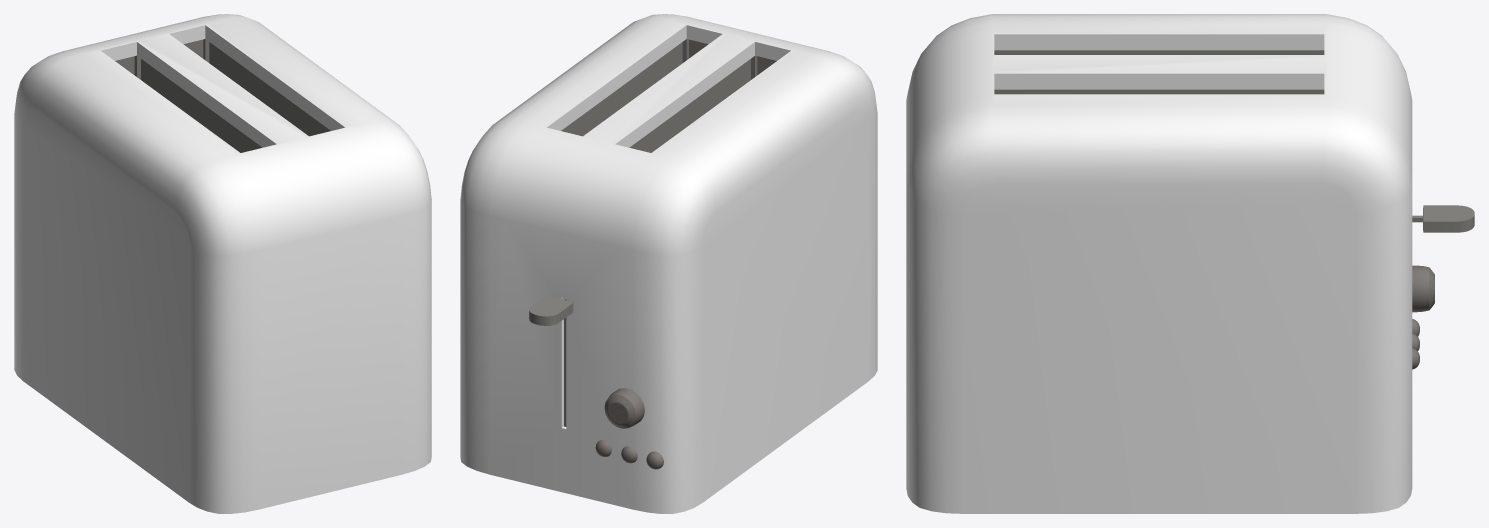
File: Microwave 1.FBX
The picture shows the model from 3 angles, left to right: view 1: azimuth 30°, elevation 25°; view 2: azimuth 150°, elevation 25°; view 3: azimuth 270°, elevation 25°; orthographic projection. The views are drawn at different scales.
Parts seen in each view (by area): view 1: Box001; view 2: Box001, Cylinder001; view 3: Box001, Cylinder001.
Part boxes in pixels (<box>): Box001: <box>14,14,431,513</box>; Box001: <box>460,14,877,513</box>; Cylinder001: <box>604,388,644,428</box>; Box001: <box>906,14,1474,513</box>; Cylinder001: <box>1412,265,1434,312</box>.
Bounding box in the file's own units: 36.39 × 49.94 × 65.1.
Materials: 4 (4 with a texture image).
